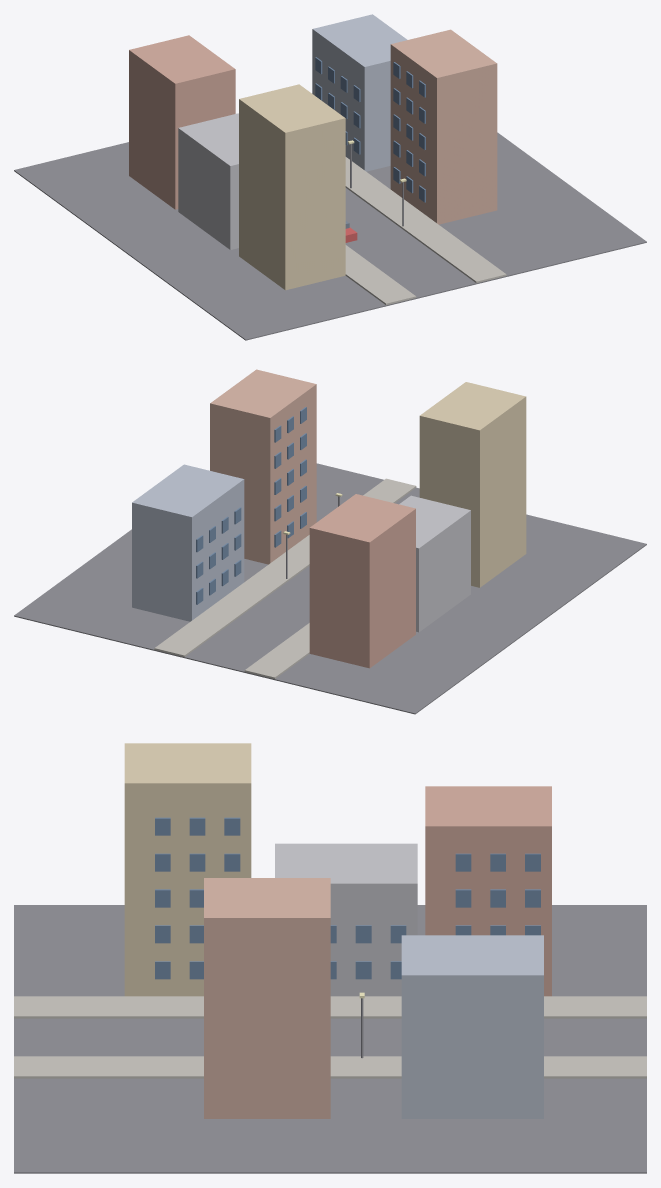
Rendered from street.glb.
3 renders of one model, top to bottom at view 1: azimuth 30°, elevation 25°; view 2: azimuth 150°, elevation 25°; view 3: azimuth 270°, elevation 25°, orthographic. The views are drawn at different scales.
Size of the model in its own units: 40 by 15.1 by 40.
